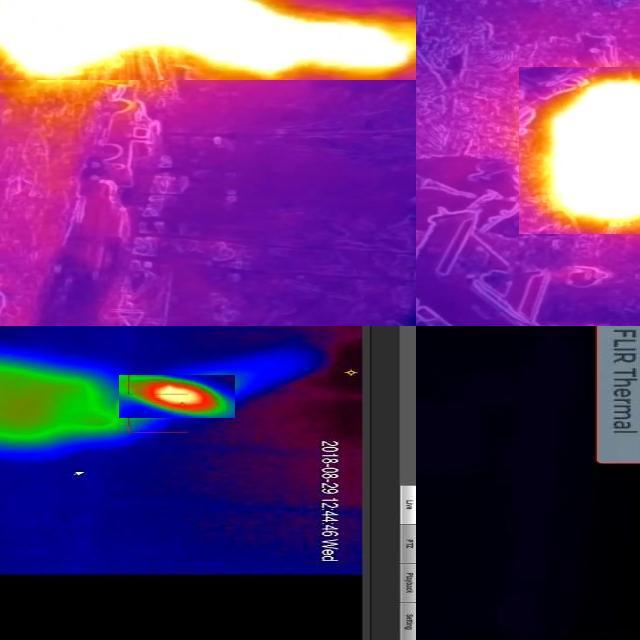fire: (1, 1, 417, 81), (519, 68, 640, 235), (119, 376, 235, 419)
